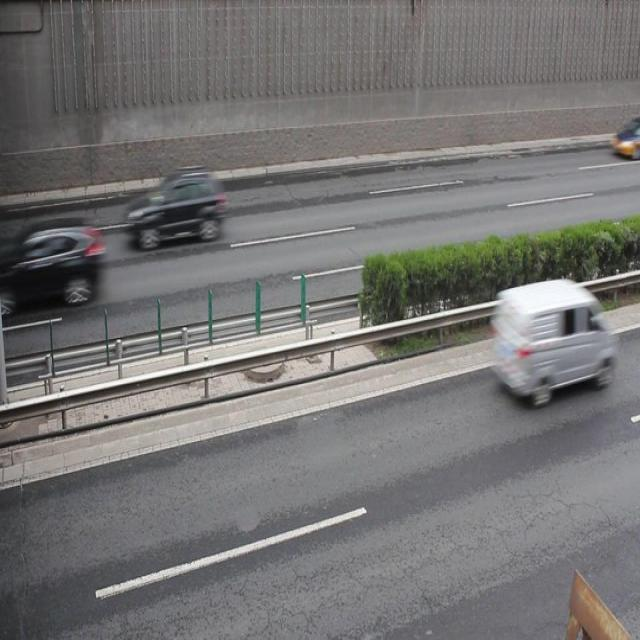car: (1, 216, 103, 309), (126, 166, 227, 250), (609, 115, 640, 159)
truck: (492, 278, 614, 401)
